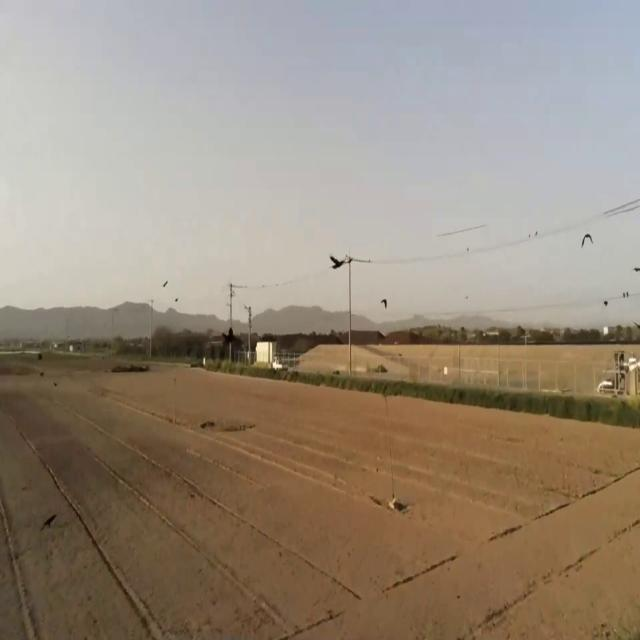bird: (329, 247, 348, 276), (581, 226, 593, 252), (380, 292, 388, 312), (633, 258, 640, 278), (162, 276, 168, 294), (623, 288, 628, 301), (174, 292, 178, 308), (604, 295, 608, 310)
